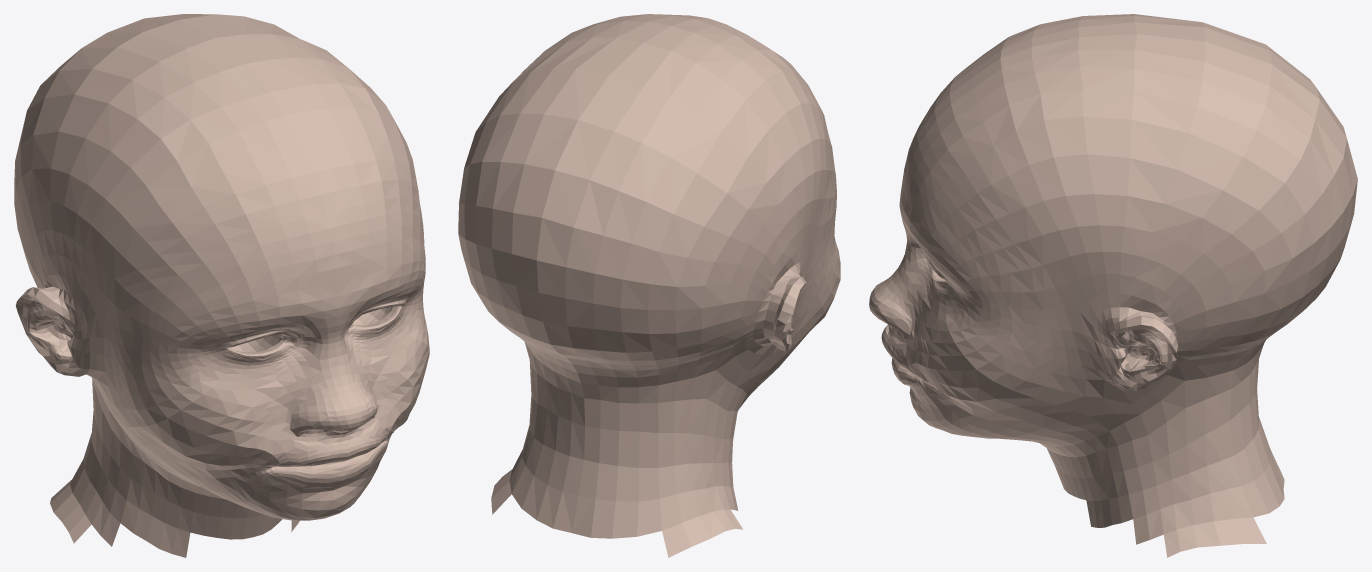
The model's file is karma_face_MH_neutral_W.glb.
3 renders of one model, left to right at view 1: azimuth 30°, elevation 25°; view 2: azimuth 150°, elevation 25°; view 3: azimuth 270°, elevation 25°, orthographic. The views are drawn at different scales.
Visible parts, largest first — view 1: head; view 2: head; view 3: head.
Boxes of the visible parts, x1,y1,x2,y2 form: head: (14,14,429,557); head: (458,14,840,557); head: (869,14,1357,557).
Bounding box in the file's own units: 3.03 × 3.91 × 3.7.
